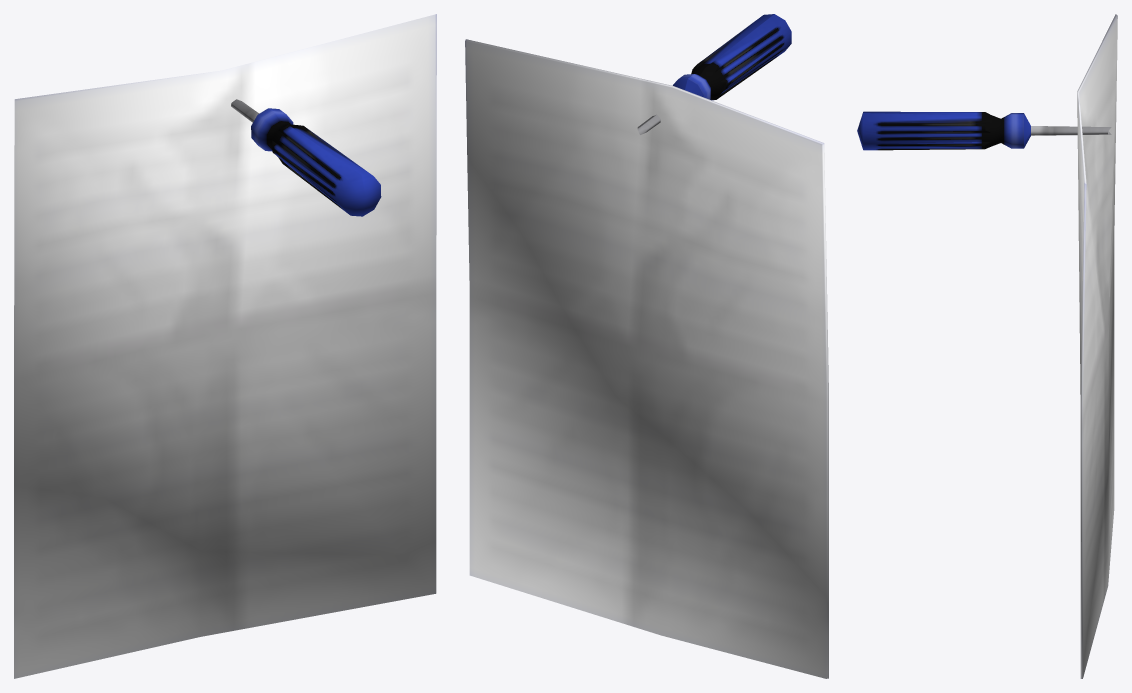
File: ScrewPaper.fbx
The picture shows the model from 3 angles, left to right: view 1: azimuth 30°, elevation 25°; view 2: azimuth 150°, elevation 25°; view 3: azimuth 270°, elevation 25°; orthographic projection. The views are drawn at different scales.
Parts seen in each view (by area): view 1: imagetostl_mesh; view 2: imagetostl_mesh; view 3: imagetostl_mesh.
Part boxes in pixels (bbox=[...]): imagetostl_mesh: bbox=[14, 14, 436, 678]; imagetostl_mesh: bbox=[465, 14, 828, 678]; imagetostl_mesh: bbox=[857, 14, 1117, 678].
Bounding box in the file's own units: 0.1887 × 0.2559 × 0.1218.
